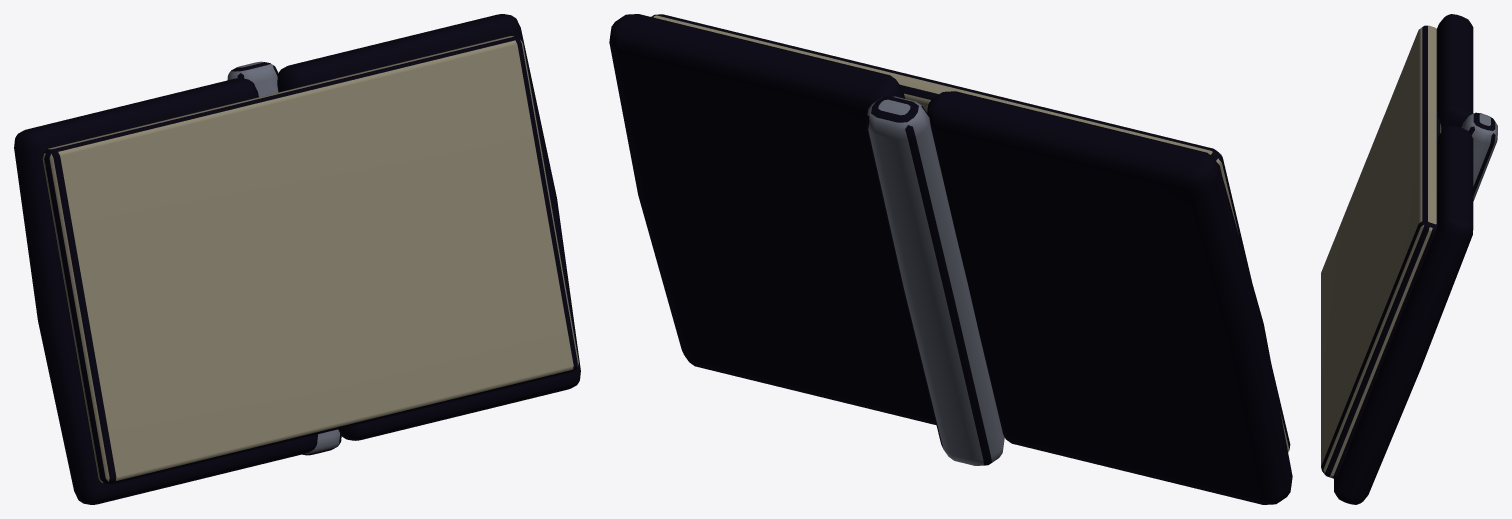
The model's file is Arma_TomoEcoMenor.fbx.
3 views of the same model, side by side, from view 1: azimuth 30°, elevation 25°; view 2: azimuth 150°, elevation 25°; view 3: azimuth 270°, elevation 25° (orthographic). The views are drawn at different scales.
Visible parts, largest first — view 1: Piece; view 2: Piece; view 3: Piece.
Part boxes in pixels (x1,y1,x2,y2): Piece: (14, 14, 580, 504); Piece: (609, 14, 1292, 504); Piece: (1321, 14, 1497, 504).
Bounding box in the file's own units: 0.43 × 0.2758 × 0.1475.
